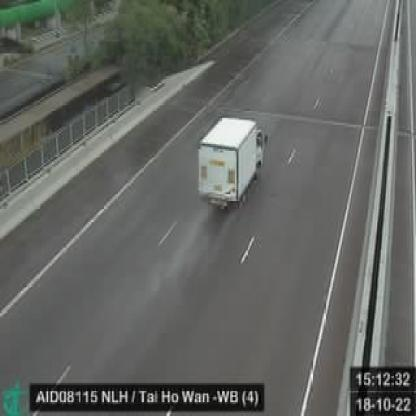Truck: (195, 114, 267, 214)
